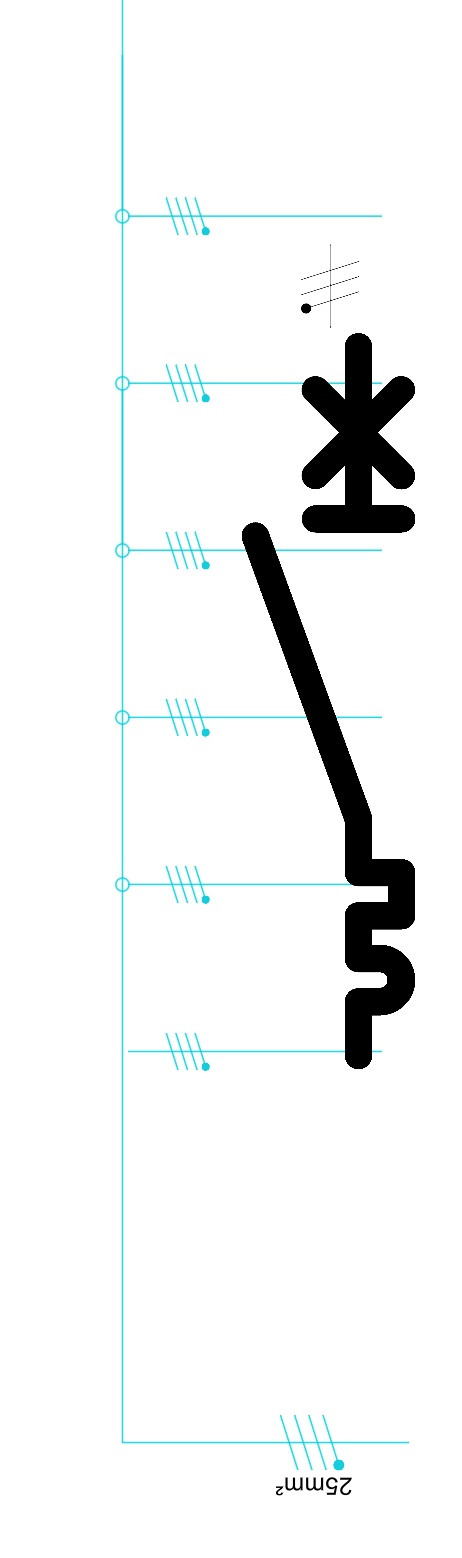interruptor_termomagnetico: (237, 328, 420, 1073)
